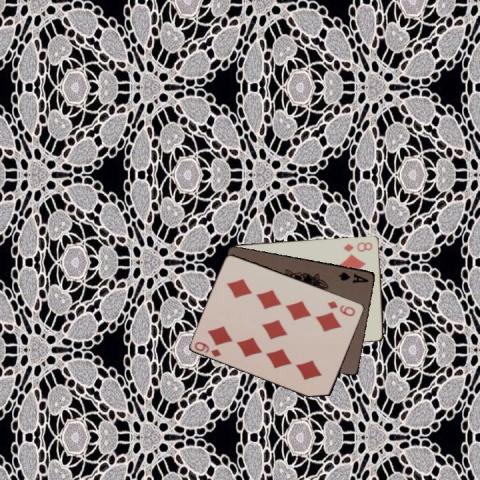8d: (340, 238, 374, 252)
9d: (324, 298, 356, 317), (191, 339, 223, 358)
As: (336, 268, 370, 284)
